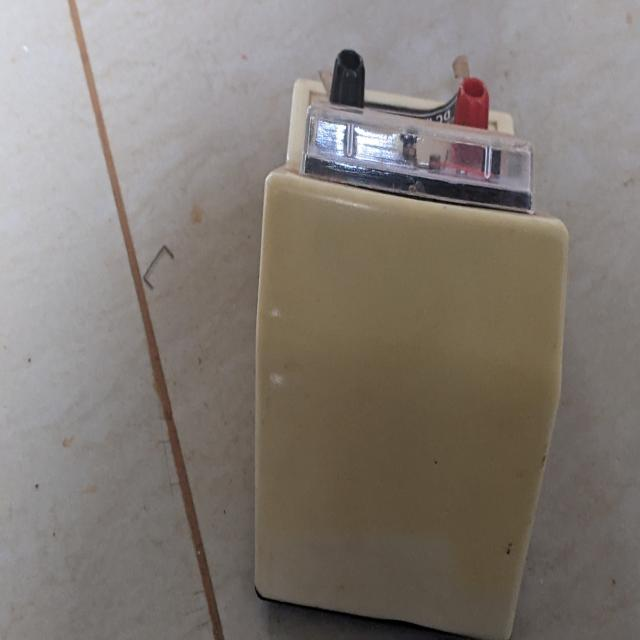Ammeter Analog: (237, 46, 576, 636)
